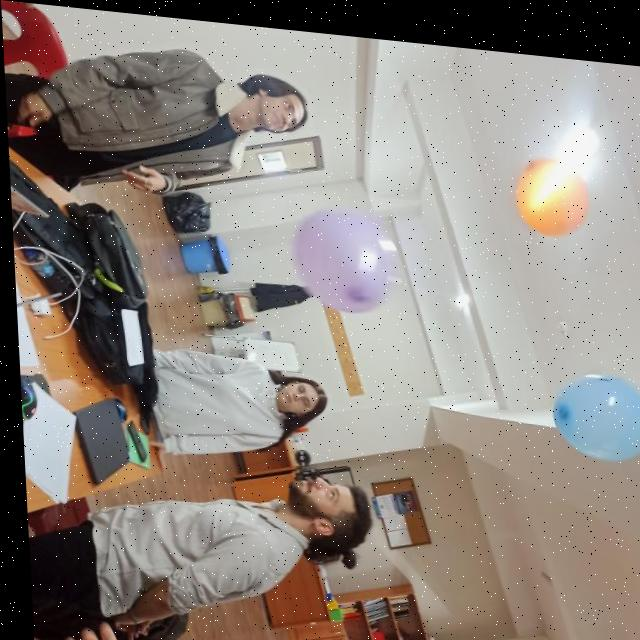balloon: (290, 199, 399, 309), (541, 355, 640, 455), (509, 139, 589, 227)
